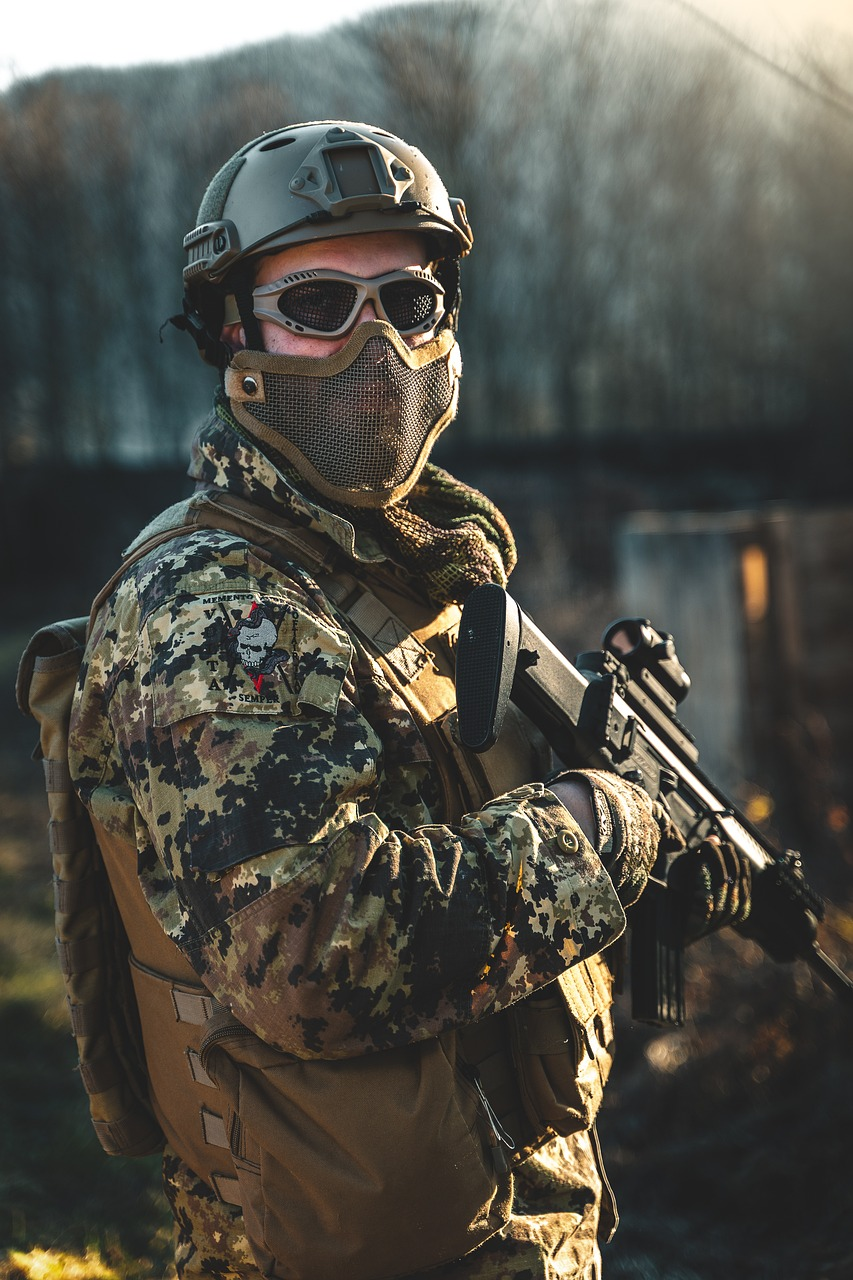gun: (446, 575, 853, 1034)
